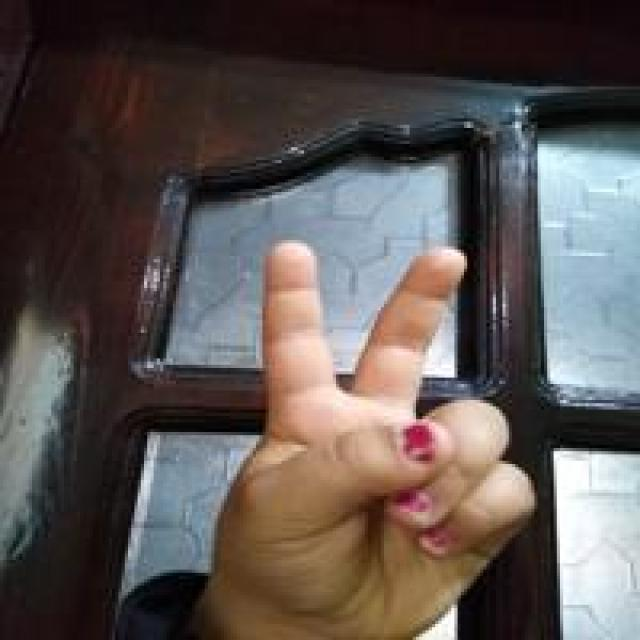V: (205, 242, 550, 628)
